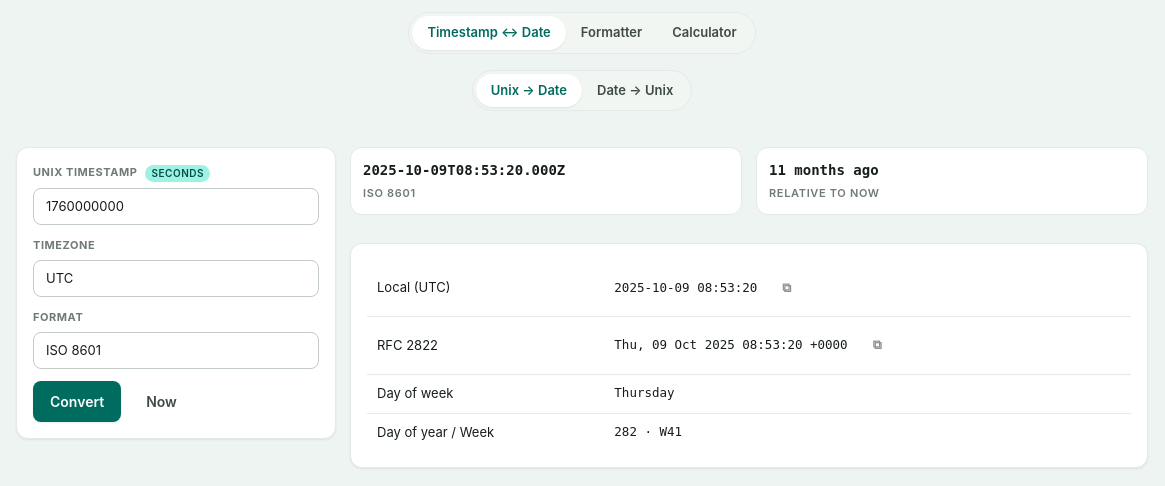
DateToolsPage — calculator mode / between-dates sub-mode › switching to Calculator mode shows start and end date inputs
Click the button "Calculator": (704, 33) [657, 16, 752, 50]
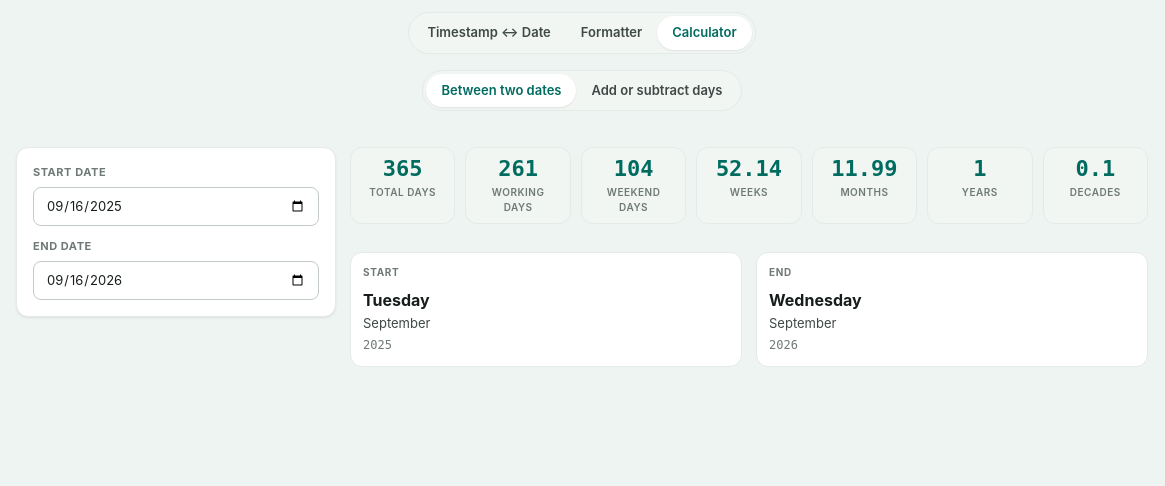
Now the date field labelled "Start date" is shown, box [33, 186, 319, 226]
Now the date field labelled "End date" is shown, box [33, 260, 319, 300]
